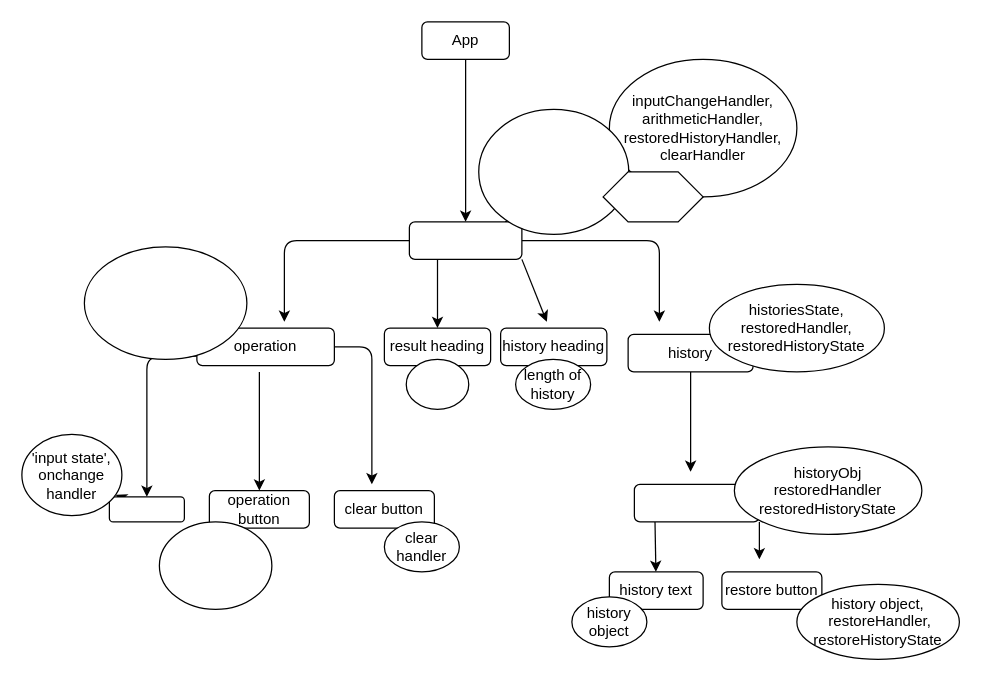
Some shapes in this 981 by 681 pixel diagram are drawn without their labels. Each missing label, with the centre of its shape:
arithmetic handler, activeBtnState: (x=215, y=565)
container: (x=465, y=240)
history item: (x=696, y=502)
input field: (x=146, y=509)
inputState, onchange handler, arithmetic handler, clear handler, activeBtnState: (x=165, y=302)
inputState, resultState, historiesState, restoredHistory state, activeBtnState: (x=553, y=171)
result state: (x=437, y=383)
useAapp: (x=652, y=196)
